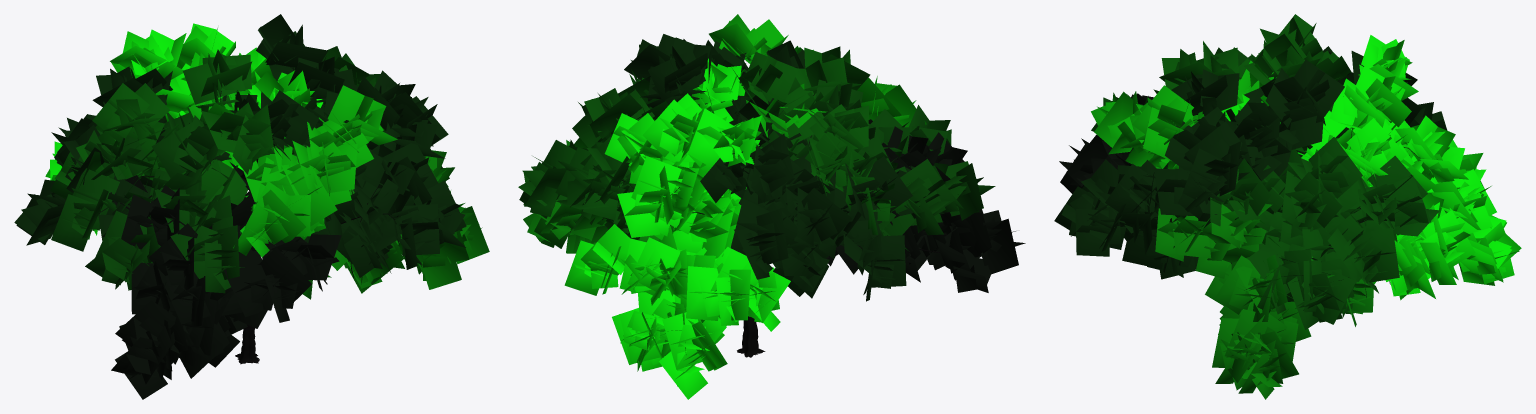
Rendered from Euro_Beech_7.fbx.
The picture shows the model from 3 angles, left to right: view 1: azimuth 30°, elevation 25°; view 2: azimuth 150°, elevation 25°; view 3: azimuth 270°, elevation 25°; orthographic projection. The views are drawn at different scales.
Visible parts, largest first — view 1: Euro_Beech_7; view 2: Euro_Beech_7; view 3: Euro_Beech_7.
Boxes of the visible parts, left/top/right/bottom form: Euro_Beech_7: left=14, top=14, right=489, bottom=399; Euro_Beech_7: left=518, top=14, right=1025, bottom=399; Euro_Beech_7: left=1054, top=14, right=1521, bottom=399.
Bounding box in the file's own units: 1233 × 844 × 1162.
